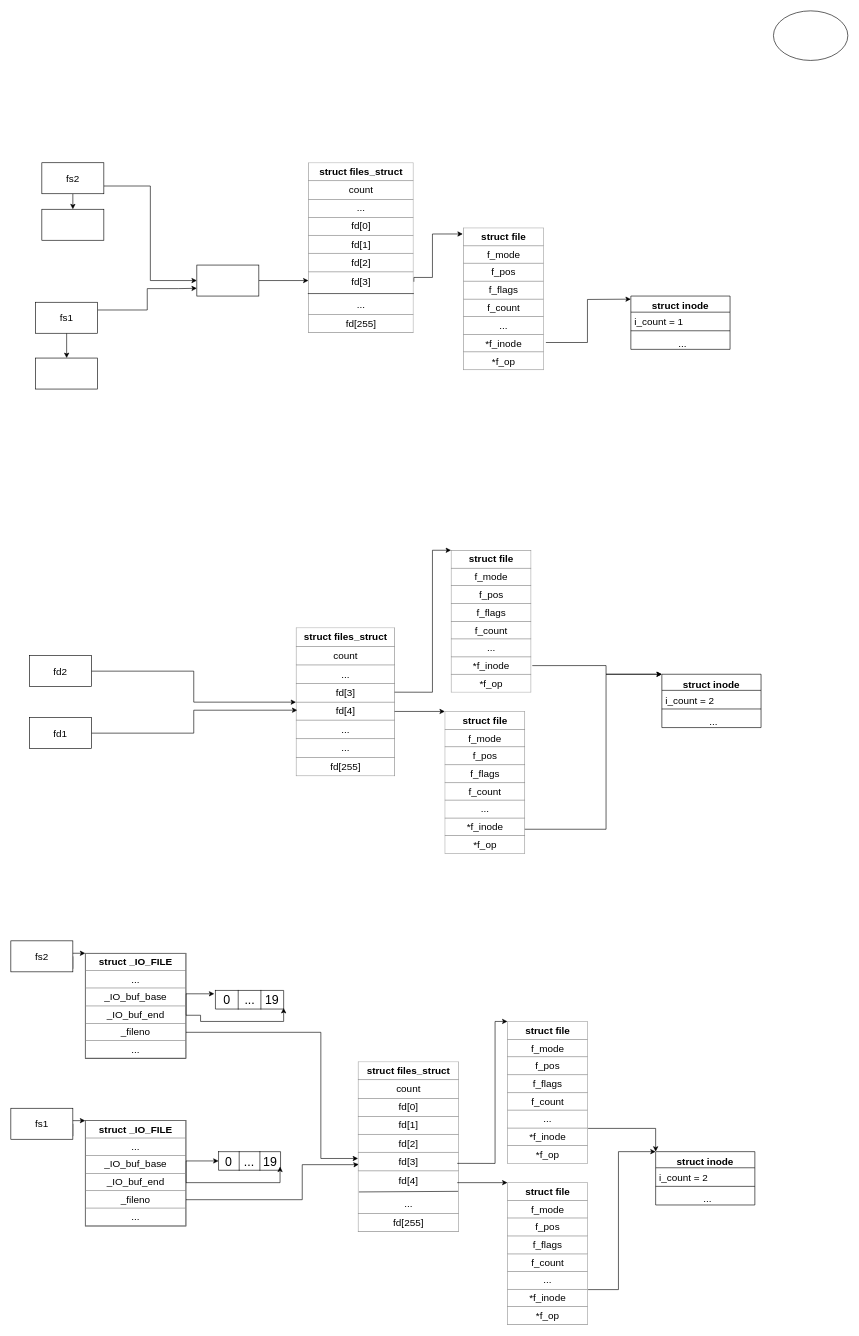
Image size: 859x1336. Some labels were removed from this diagram. Each missing label, with the centre of its shape:
buff1: (x=66, y=373)
buff2: (x=72, y=224)
fd: (x=227, y=280)
